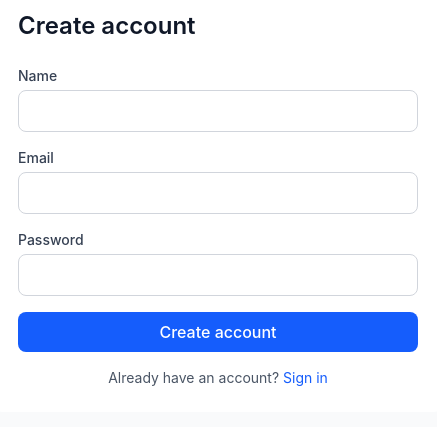
Test: RegisterPage › shows name required error when name is empty
Type "test@example.com" into the field labelled "Email" at (218, 193), box top-left (18, 172), bottom-right (418, 214)
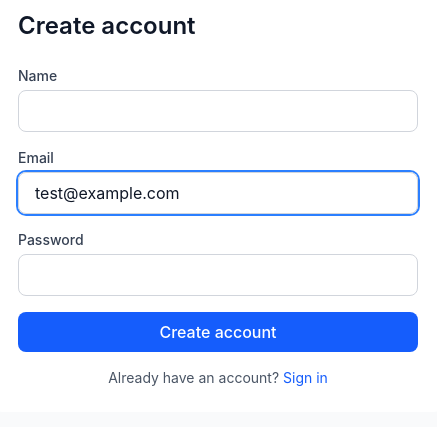
Type "password123" into the password field labelled "Password" at (218, 275), box top-left (18, 254), bottom-right (418, 296)
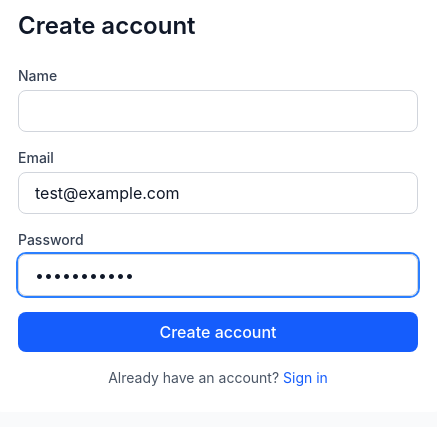
Click the button "Create account" at (218, 332), box top-left (18, 312), bottom-right (418, 352)
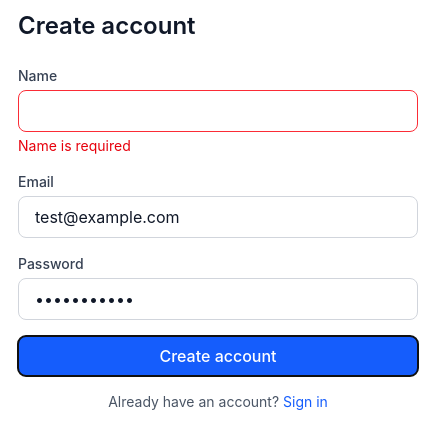
Check: the text "Name is required" is shown, box top-left (18, 137), bottom-right (131, 154)
